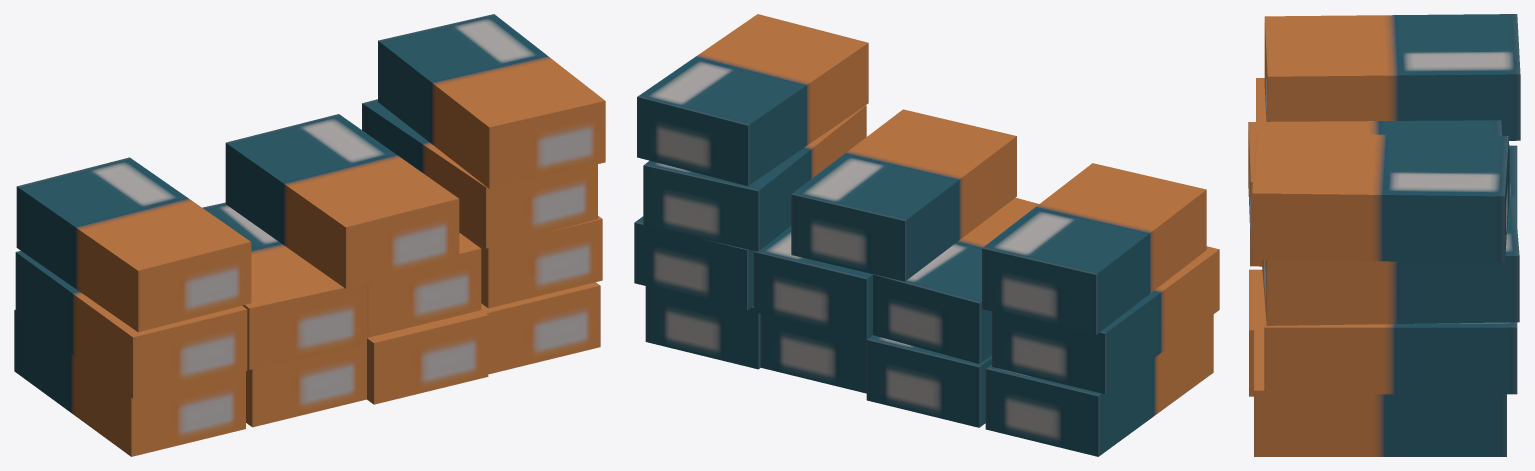
The model's file is SM_Prop_Hunting_Ammo_Pile_02.obj.
3 views of the same model, side by side, from view 1: azimuth 30°, elevation 25°; view 2: azimuth 150°, elevation 25°; view 3: azimuth 270°, elevation 25° (orthographic). The views are drawn at different scales.
Visible parts, largest first — view 1: SM_Prop_Hunting_Ammo_Pile_02_0; view 2: SM_Prop_Hunting_Ammo_Pile_02_0; view 3: SM_Prop_Hunting_Ammo_Pile_02_0.
Boxes of the visible parts, left/top/right/bottom form: SM_Prop_Hunting_Ammo_Pile_02_0: left=14, top=14, right=605, bottom=456; SM_Prop_Hunting_Ammo_Pile_02_0: left=634, top=14, right=1219, bottom=456; SM_Prop_Hunting_Ammo_Pile_02_0: left=1248, top=14, right=1520, bottom=456.
Bounding box in the file's own units: 0.5154 × 0.2538 × 0.2355.
Materials: 1 (1 with a texture image).
